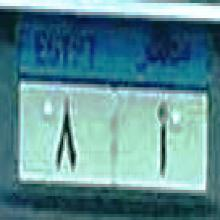8: (50, 97, 80, 173)
alif: (152, 100, 170, 178)
